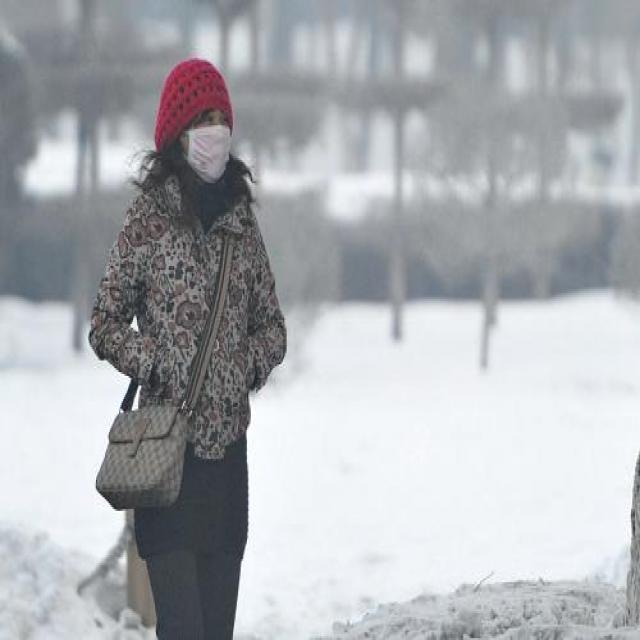mask: (184, 98, 230, 180)
